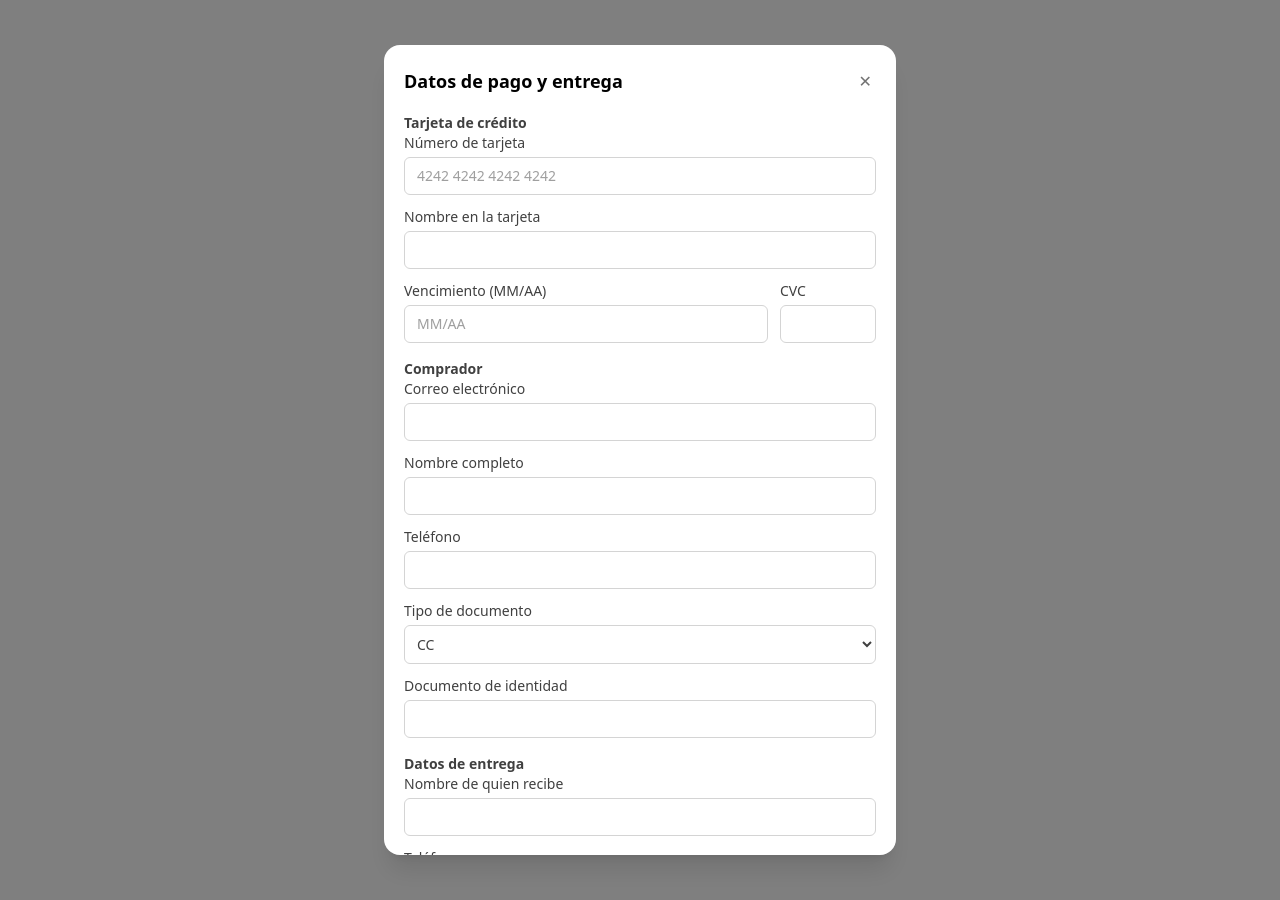
CheckoutModal › formats the card number with spaces every four digits
Type "4242424242424242" into the field with test id "card-number-input".
click(640, 176); type("4242424242424242")  # box [404, 157, 876, 195]
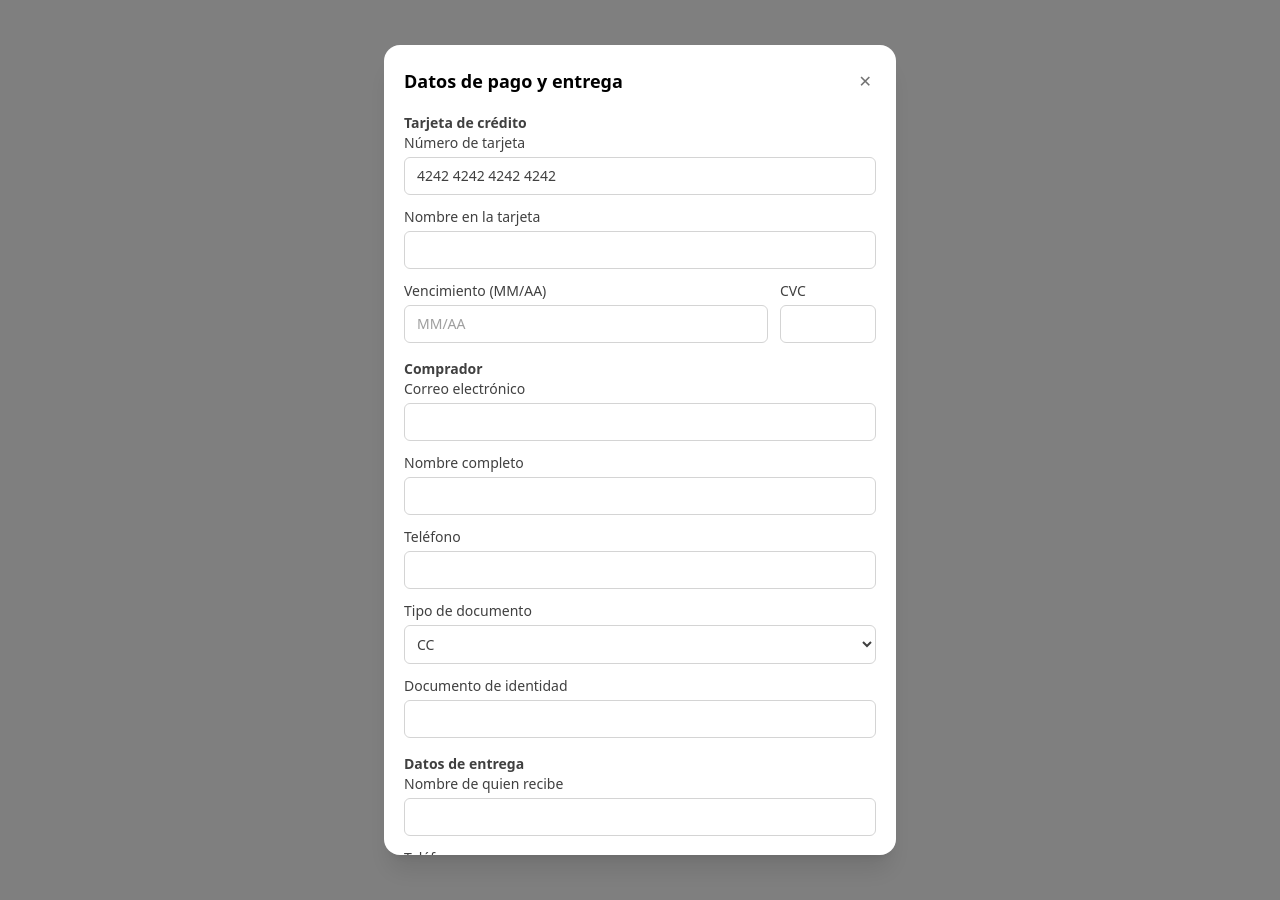
Result: the field with test id "card-number-input" holds "4242 4242 4242 4242" at [404, 157, 876, 195]
